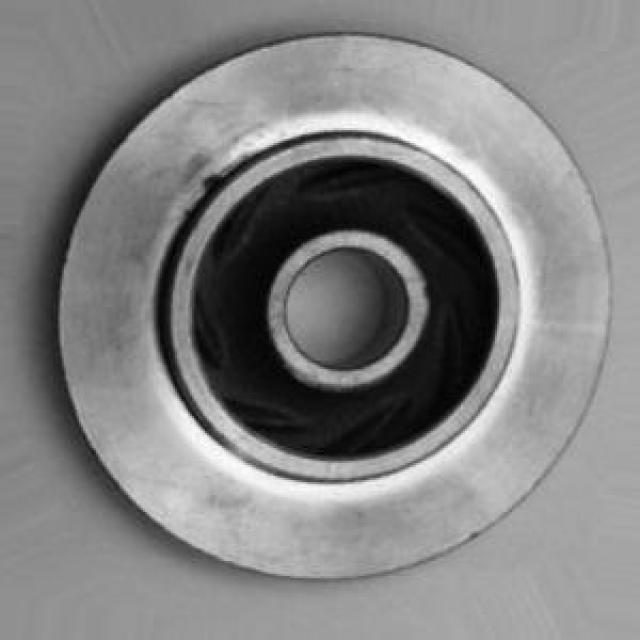Defect: (196, 161, 234, 197)
